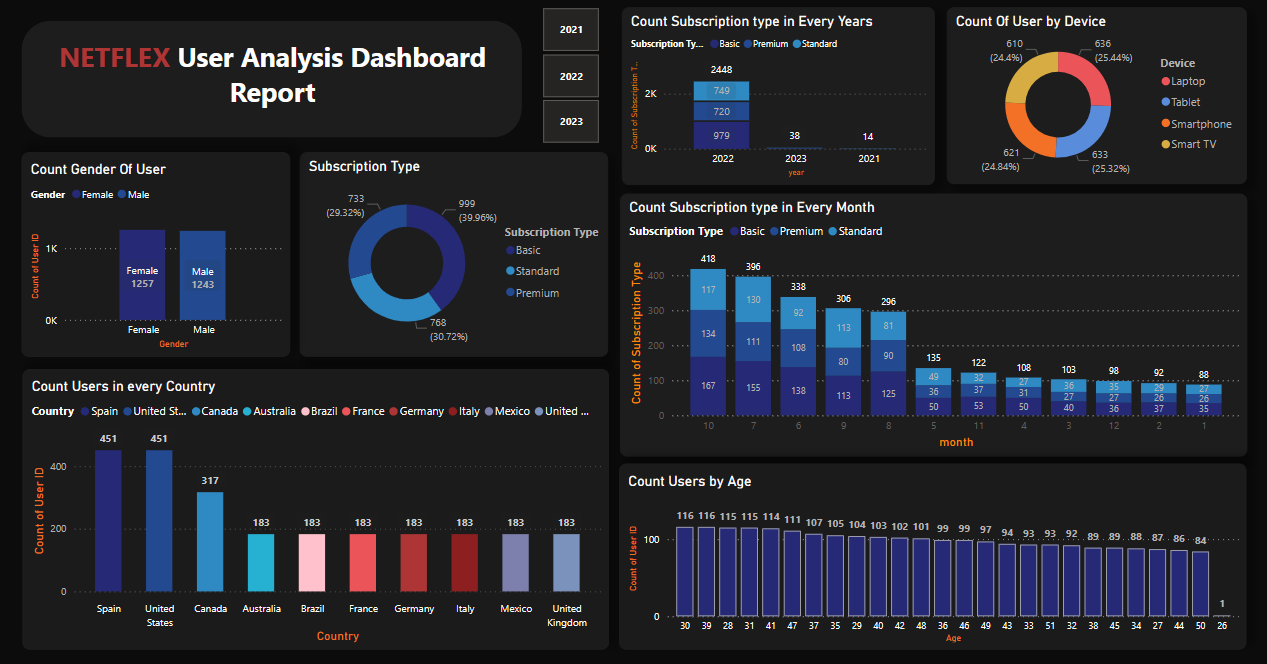

Layout of this report page (visuals, bound fields, positions):
{"tool":"powerbi","page":{"name":"Page 1","canvas":[1500,800],"ordinal":0},"visuals":[{"type":"donutChart","title":"Count Of User by Device","fields":{"Category":["Netflix-Userbase.Device"],"Y":["CountNonNull(Netflix-Userbase.User ID)"]},"box":[1125,8.8,360,212.5],"z":0},{"type":"slicer","fields":{"Values":["Netflix-Userbase.year"]},"box":[616.7,3.3,116.7,175],"z":1000},{"type":"donutChart","title":"Subscription Type ","fields":{"Category":["Netflix-Userbase.Subscription Type"],"Y":["CountNonNull(Netflix-Userbase.Subscription Type)"]},"box":[350,182.7,370,245],"z":2000},{"type":"columnChart","title":"Count Users in every Country","fields":{"Category":["Netflix-Userbase.Country"],"Y":["CountNonNull(Netflix-Userbase.User ID)"],"Series":["Netflix-Userbase.Country"]},"box":[17.1,442.9,702.9,337.1],"z":3000},{"type":"columnChart","title":"Count Subscription type in Every Years","fields":{"Category":["Netflix-Userbase.year"],"Y":["CountNonNull(Netflix-Userbase.Subscription Type)"],"Series":["Netflix-Userbase.Subscription Type"]},"box":[735.7,8.6,375.7,212.9],"z":4000},{"type":"columnChart","title":"Count Subscription type in Every Month","fields":{"Y":["CountNonNull(Netflix-Userbase.Subscription Type)"],"Category":["Netflix-Userbase.month"],"Series":["Netflix-Userbase.Subscription Type"]},"box":[733.8,232.5,752.5,315],"z":5000},{"type":"columnChart","title":"Count Gender Of User","fields":{"Category":["Netflix-Userbase.Gender"],"Y":["CountNonNull(Netflix-Userbase.User ID)"],"Series":["Netflix-Userbase.Gender"]},"box":[16.7,182.7,321.7,245],"z":6000},{"type":"columnChart","title":"Count Users by Age","fields":{"Category":["Netflix-Userbase.Age"],"Y":["CountNonNull(Netflix-Userbase.User ID)"]},"box":[732.5,556.2,752.5,223.8],"z":7000},{"type":"shape","box":[16.7,25,600,140],"z":7001},{"type":"textbox","box":[38.3,40,556.7,110],"z":7002}]}

Visuals, with their boxes in screenshot pixels (x1, y1, x2, y2), scaled from the page's 1500x800 canvas onto the 1267x664 screenshot:
"Count Of User by Device" donutChart: [950, 7, 1254, 184]
slicer - Netflix-Userbase.year: [521, 3, 619, 148]
"Subscription Type " donutChart: [296, 152, 608, 355]
"Count Users in every Country" columnChart: [14, 368, 608, 647]
"Count Subscription type in Every Years" columnChart: [621, 7, 939, 184]
"Count Subscription type in Every Month" columnChart: [620, 193, 1255, 454]
"Count Gender Of User" columnChart: [14, 152, 286, 355]
"Count Users by Age" columnChart: [619, 462, 1254, 647]
shape: [14, 21, 521, 137]
textbox: [32, 33, 503, 124]
